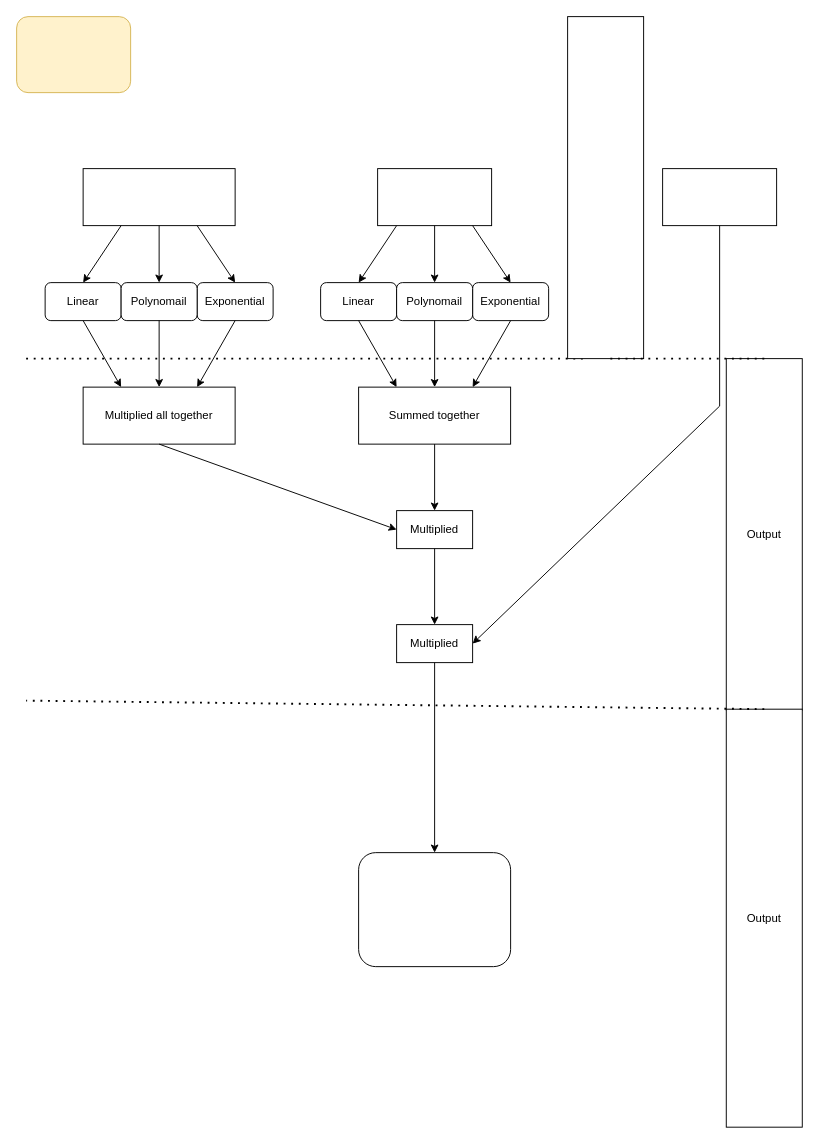
This 819x1144 diagram has some shape labels left out. The shapes that lost their labels are listed below. From the top down, each one's centre as x and y in pixels, then its label:
At (73,54): "Currency Handler (currency growth)".
At (158,197): "Multiplier Level".
At (434,197): "Generators".
At (605,187): "Self Contained data <---- Input ---->".
At (719,197): "External Multiplier (plug in)".
At (434,909): "Add to the currency".
